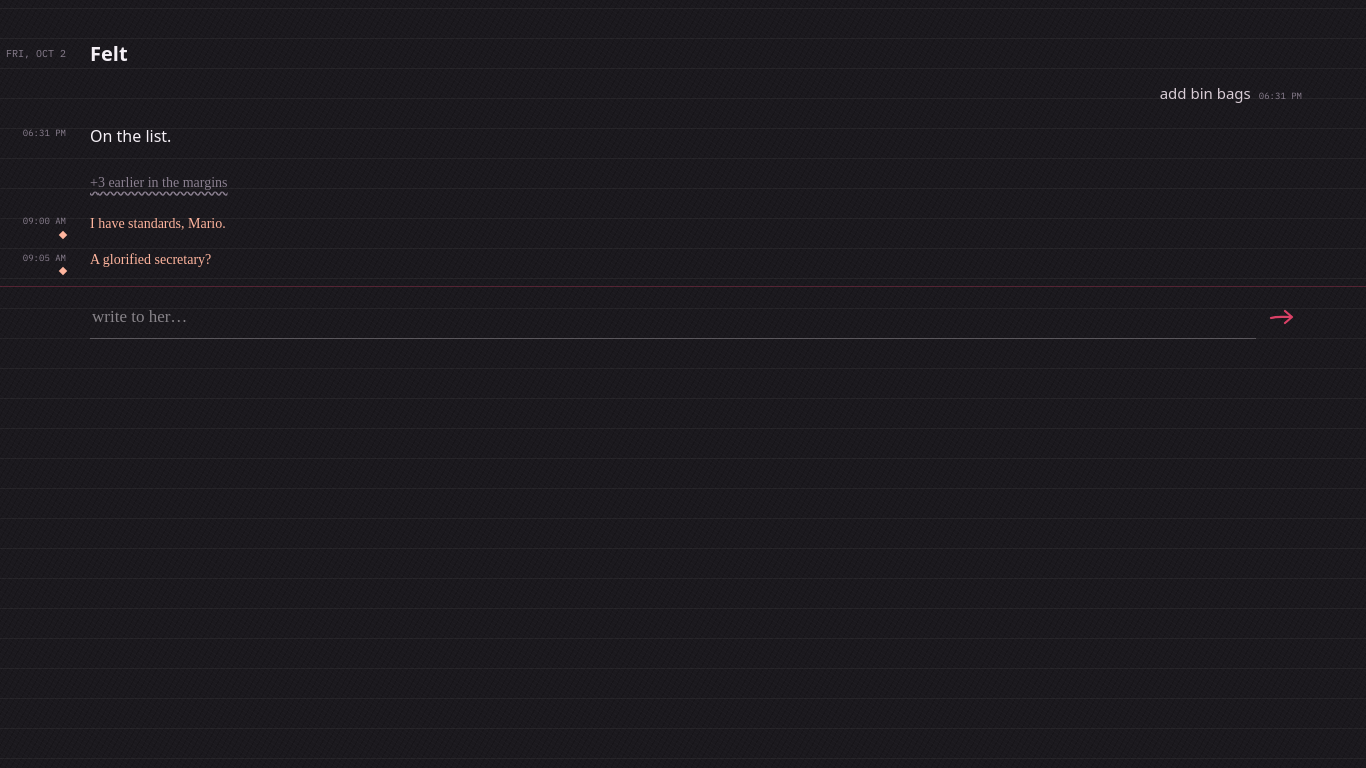
Test: Talk › her asides › answering one sends its id, shows it above the line, and can be dropped
The width and height of the screenshot is (1366, 768).
Click the button with aria-label "Answer her: A glorified secretary?" at coordinates (151, 260), box [90,246,211,274]
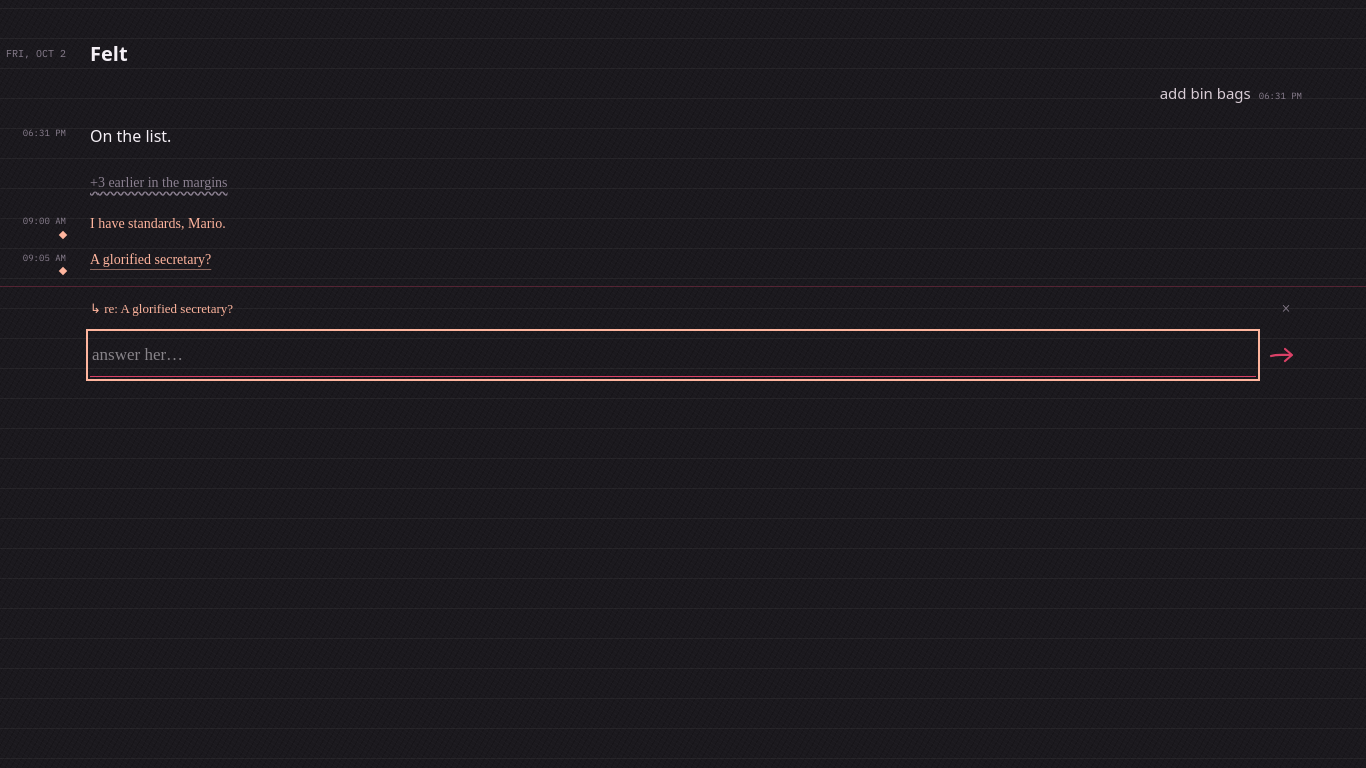
Now the text "↳ re: A glorified secretary?" is shown, box [90,301,233,316]
Click the button named "Don't answer this" at coordinates (1286, 309), box [1270,293,1302,325]
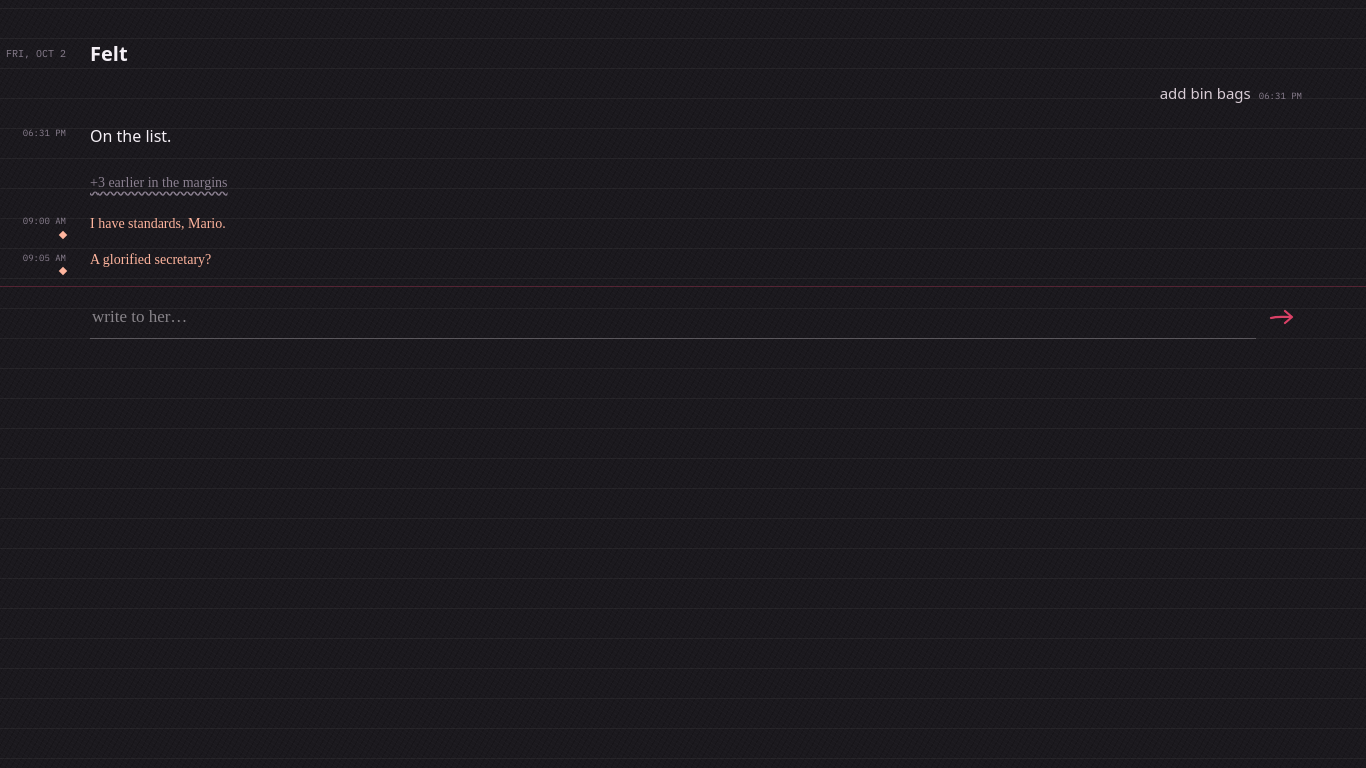
Now the text "↳ re:" is gone
Click the button with aria-label "Answer her: I have standards, Mario." at coordinates (158, 223), box [90,209,226,238]
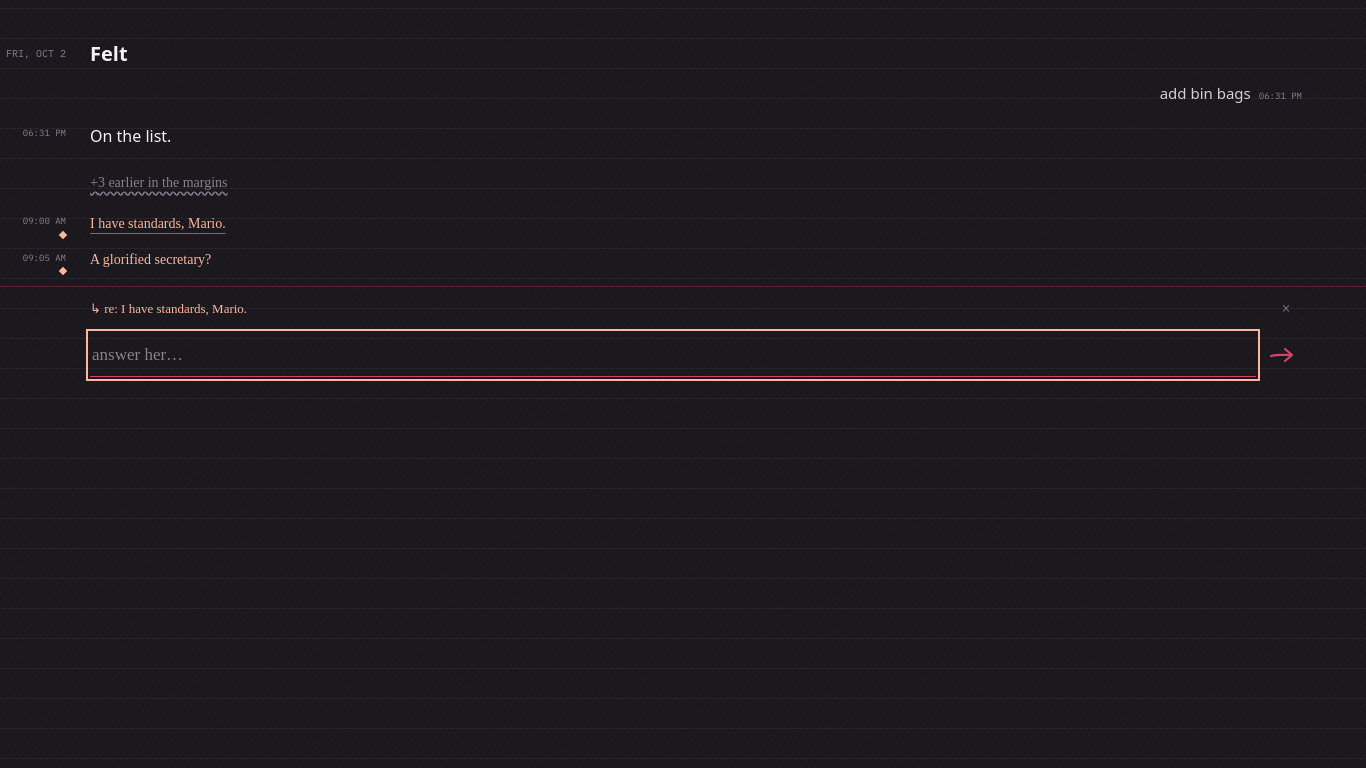
Type "you do" into the field named "Write to Felt" at coordinates (673, 355), box [90,333,1256,377]
Then press Enter
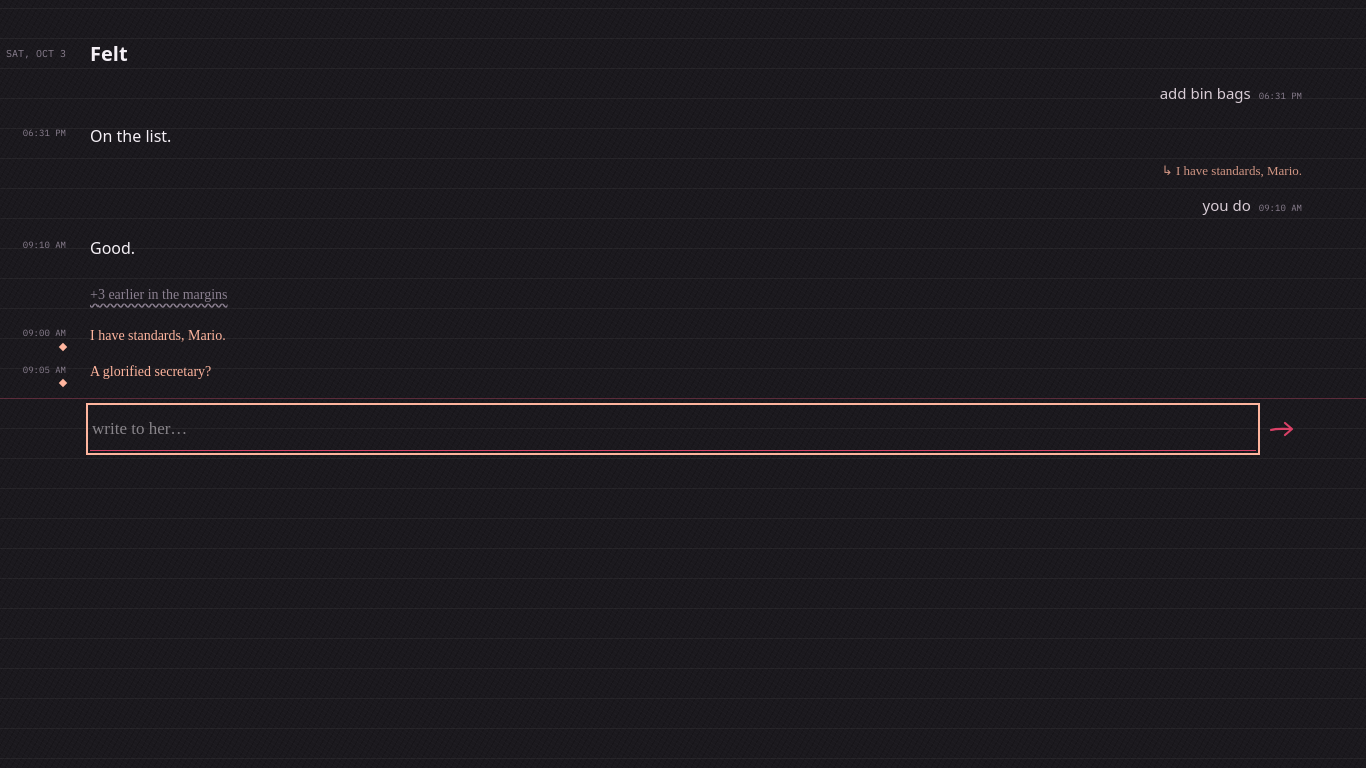
Now the text "Good." is shown, box [90,237,135,259]
Now the text "↳ I have standards, Mario." is shown, box [1162,163,1302,178]
Now the text "↳ re:" is gone
